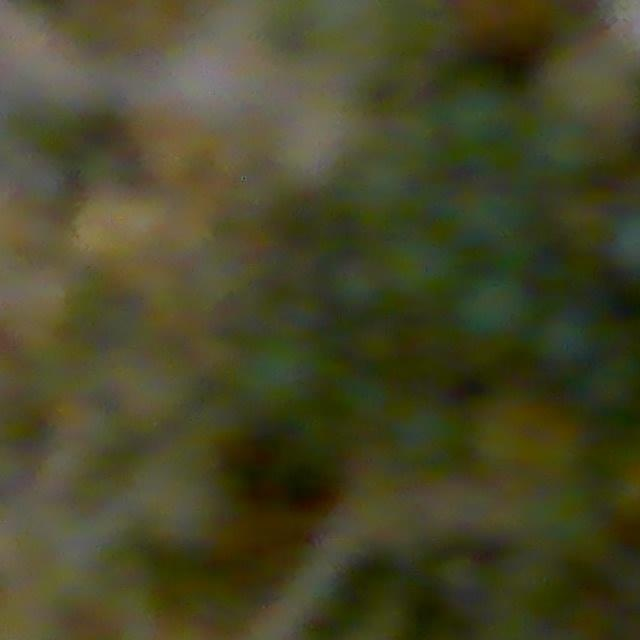SeaGrape: (455, 269, 533, 342), (532, 302, 604, 370)
